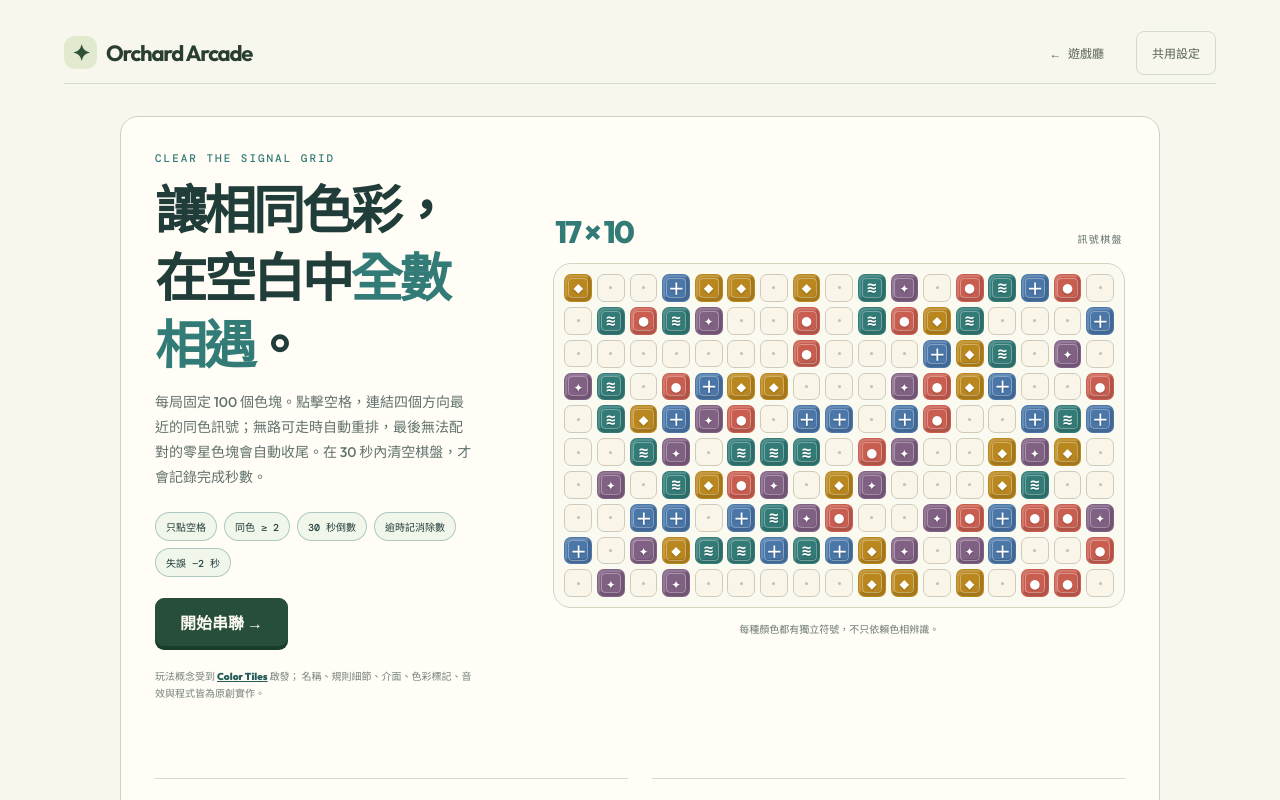
Test: platform routing and lazy game lifecycle › pauses an active game while shared settings owns focus
Click the button "開始串聯 →".
click(221, 622)  # box [155, 598, 288, 646]
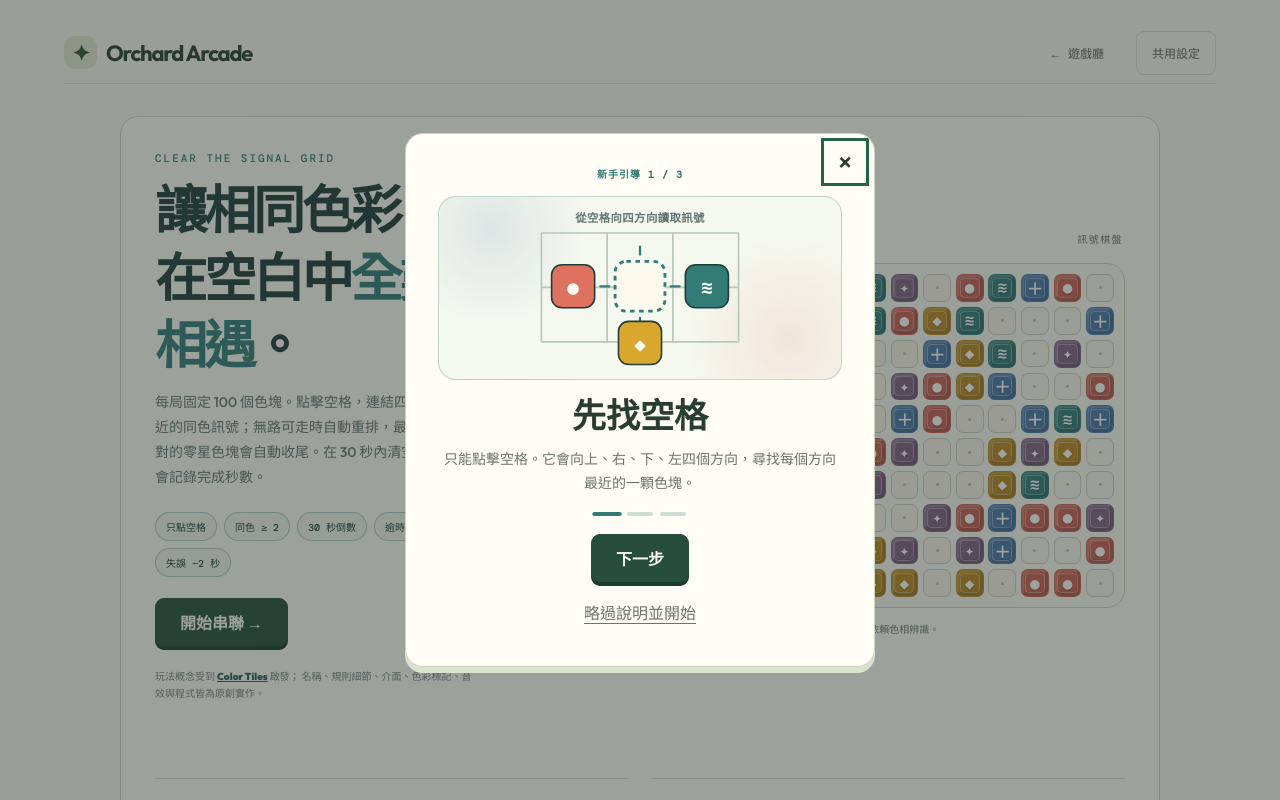
Click the button "略過說明並開始".
click(640, 612)  # box [578, 590, 702, 634]
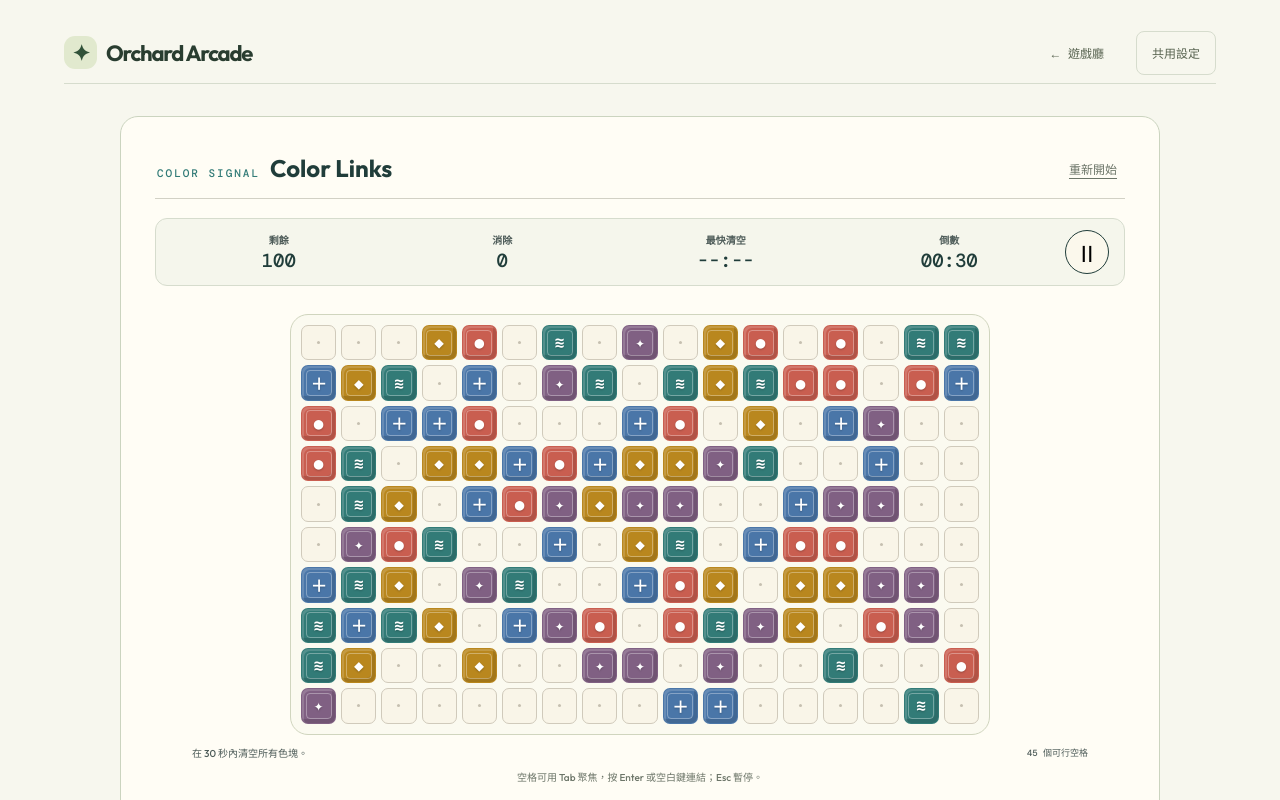
Click the button "共用設定".
click(1176, 52)  # box [1136, 30, 1216, 74]
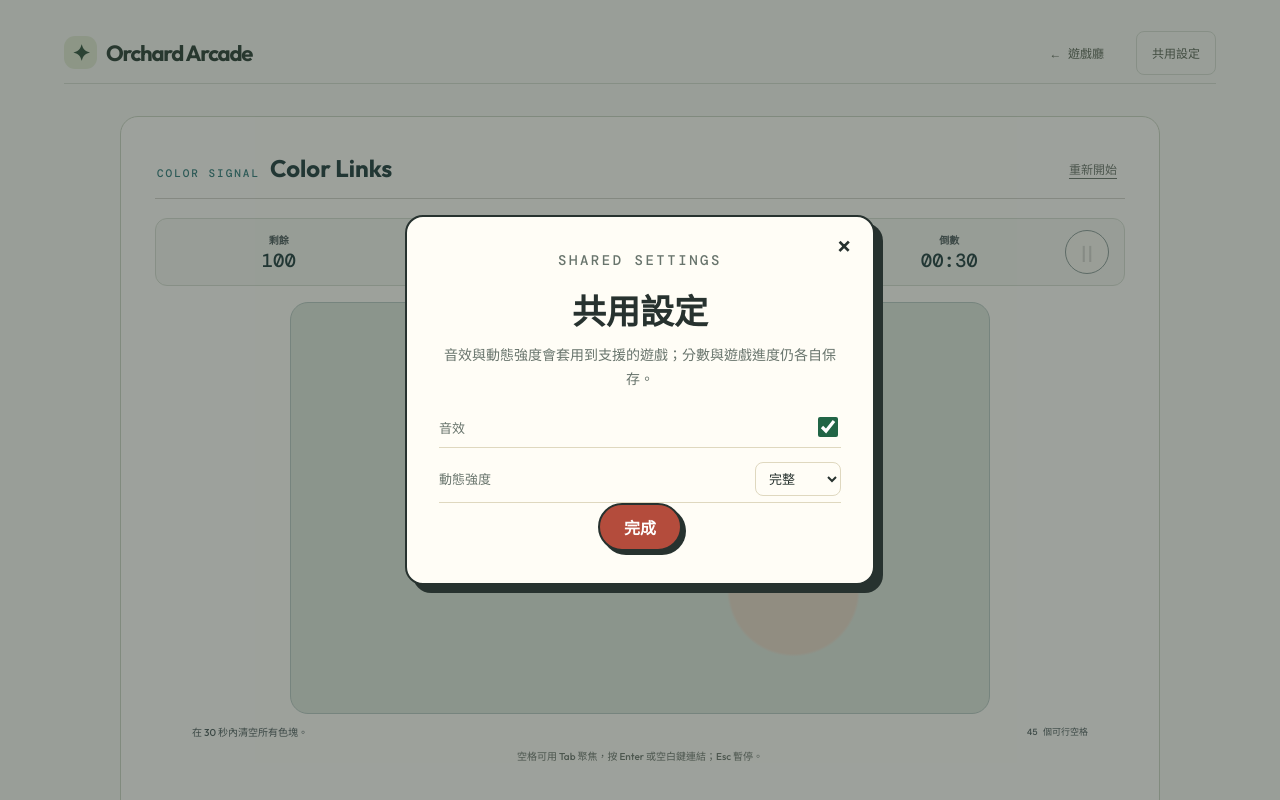
Now the dialog named "共用遊戲設定" is shown, box [405, 215, 875, 585]
Click the button "完成".
click(640, 527)  # box [598, 503, 682, 551]
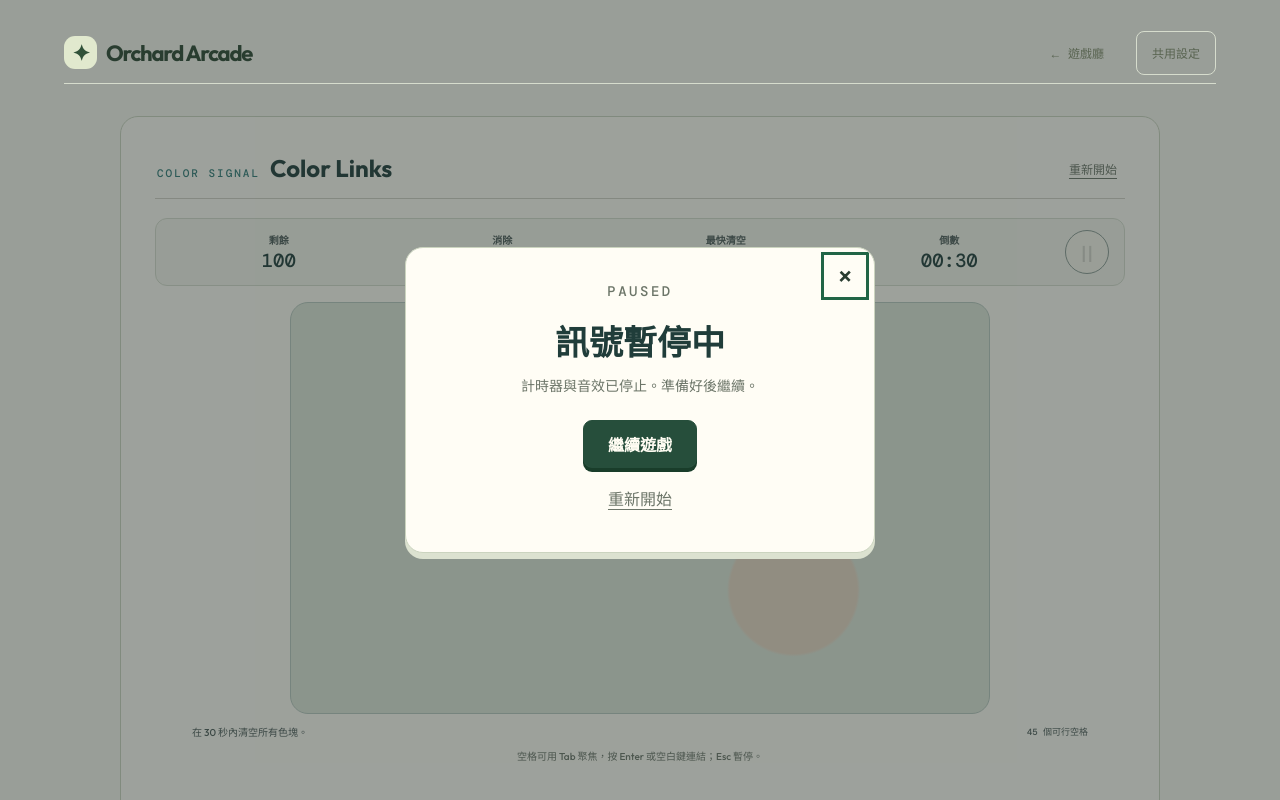
Now the dialog named "Color Links 已暫停" is shown, box [405, 247, 875, 553]
